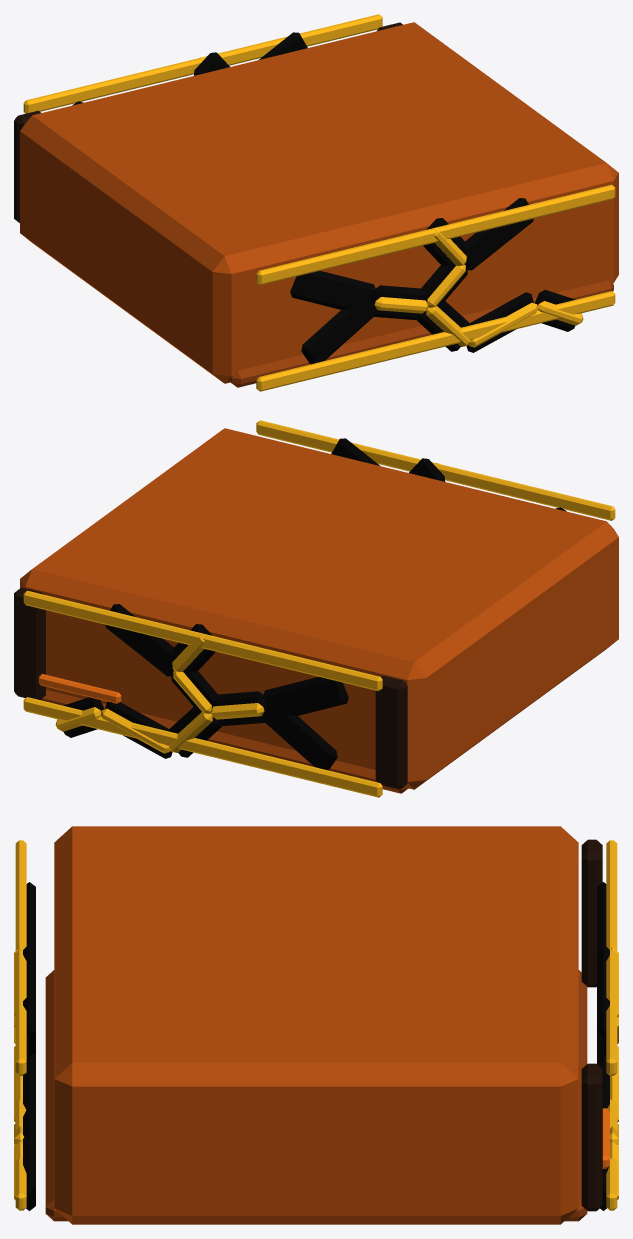
File: falling_ruin_warning.obj
3 renders of one model, top to bottom at view 1: azimuth 30°, elevation 25°; view 2: azimuth 150°, elevation 25°; view 3: azimuth 270°, elevation 25°, orthographic. The views are drawn at different scales.
Parts seen in each view (by area): view 1: FallingRuin_Warning; view 2: FallingRuin_Warning; view 3: FallingRuin_Warning.
Boxes of the visible parts, box(x1,y1,x2,y2) form: FallingRuin_Warning: box(14, 14, 618, 391); FallingRuin_Warning: box(14, 420, 618, 797); FallingRuin_Warning: box(14, 826, 618, 1224).
Size of the model in its own units: 1 by 0.343 by 1.02.
1 material, 1 textured.
